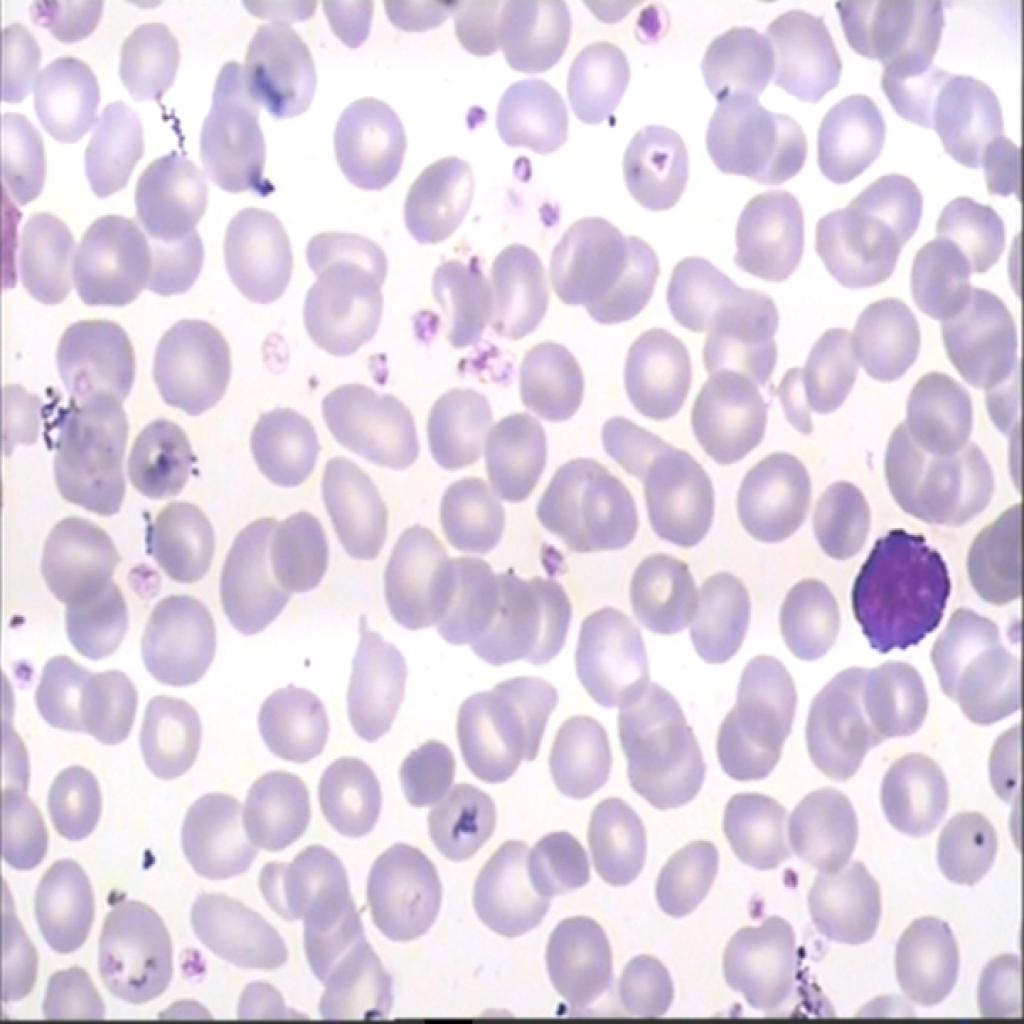Basofil: (834, 508, 957, 658)
Platelet: (620, 0, 670, 57), (534, 526, 570, 590), (456, 90, 490, 146), (771, 851, 805, 905), (529, 189, 570, 231), (18, 0, 61, 37), (505, 140, 536, 186), (1001, 602, 1023, 660), (174, 948, 204, 990), (362, 345, 386, 396), (738, 889, 772, 924), (2, 658, 36, 692), (407, 304, 432, 343)
